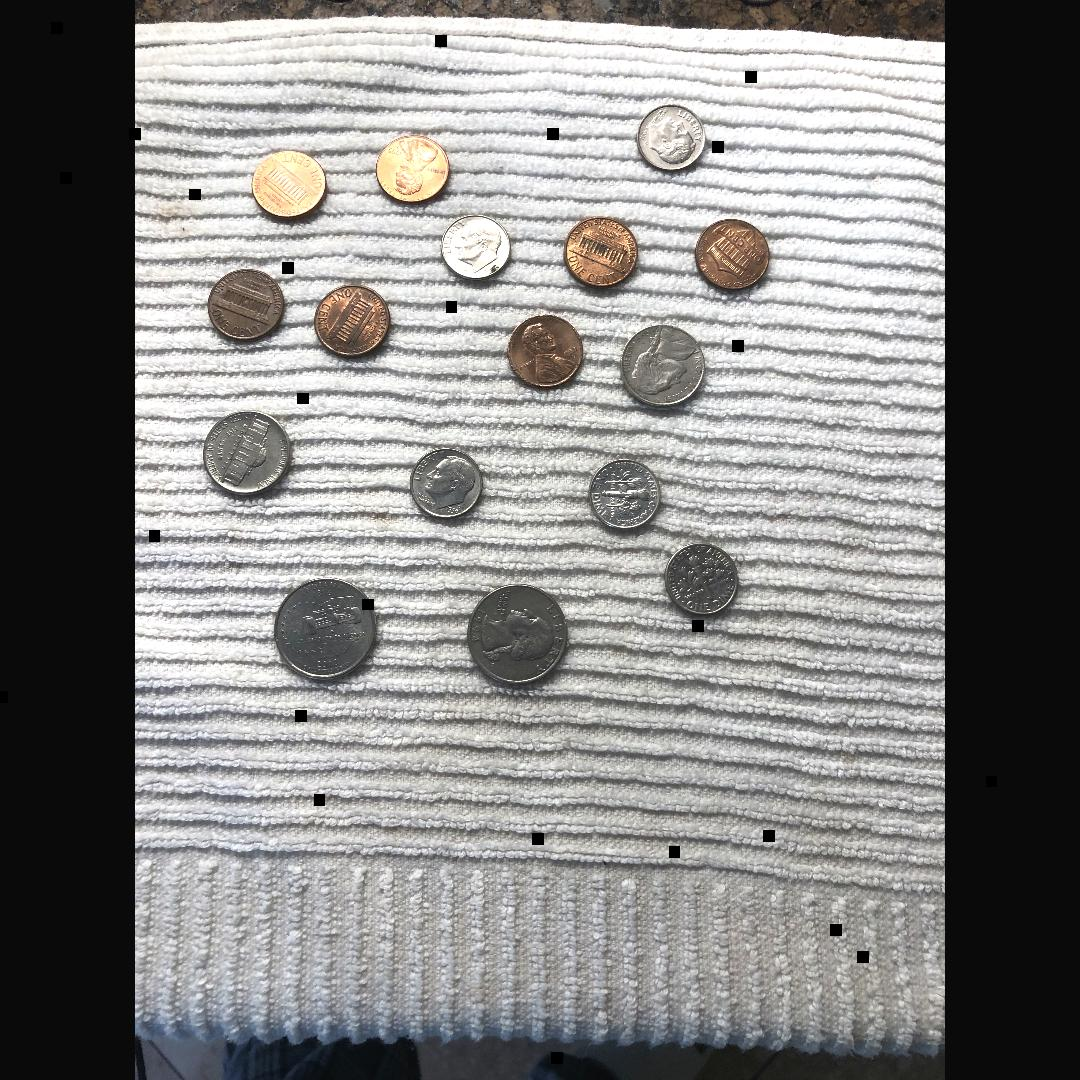Dime: (585, 454, 667, 538), (409, 446, 487, 526), (666, 541, 740, 621), (636, 102, 706, 174), (442, 215, 510, 285)
Nickel: (198, 409, 296, 501), (616, 324, 712, 412)
Penny: (370, 129, 460, 209), (207, 265, 291, 349), (505, 312, 589, 393), (560, 215, 644, 294), (694, 216, 774, 296), (312, 284, 392, 364), (249, 143, 329, 223)
Quarter: (457, 583, 577, 695), (272, 578, 382, 690)
